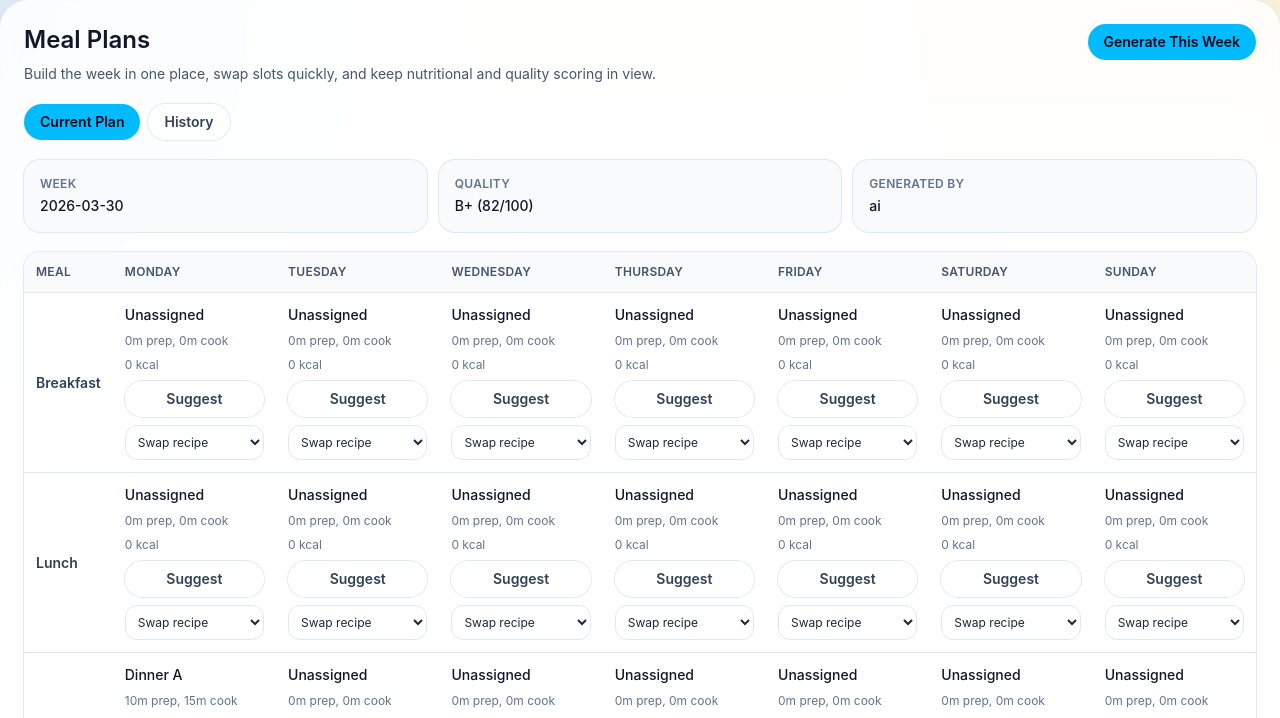
Scenario: MealPlansPage › generates this week plan
Expected: the text "2026-03-30" is shown, 40,197 -> 124,214
Click the button "Generate This Week". click: x=1172, y=42
box: 1088,24 -> 1256,60
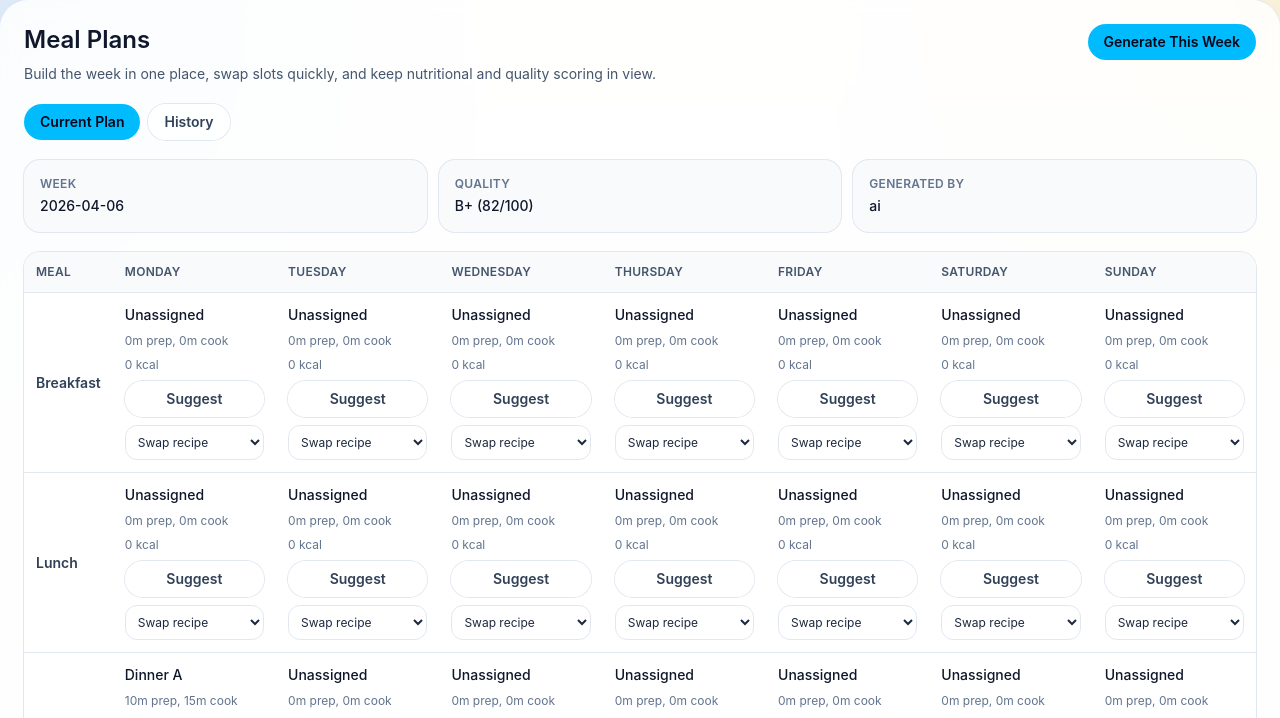
Now the text "2026-04-06" is shown, box 40,197 -> 124,214
